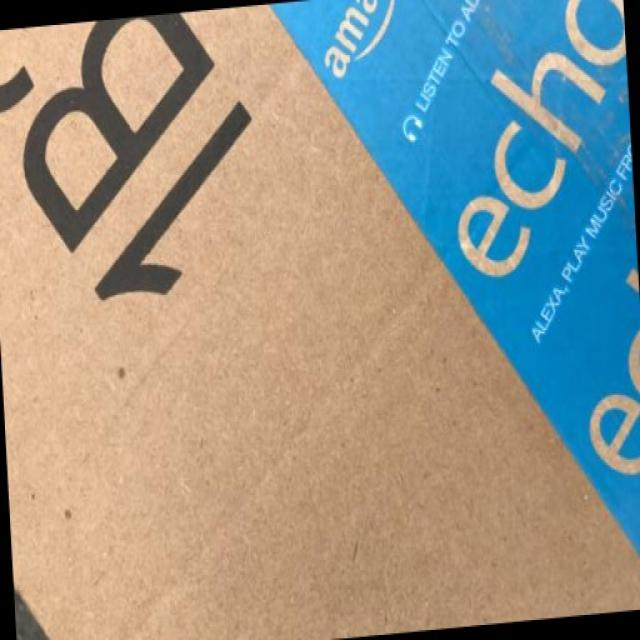carton: (50, 16, 612, 510)
